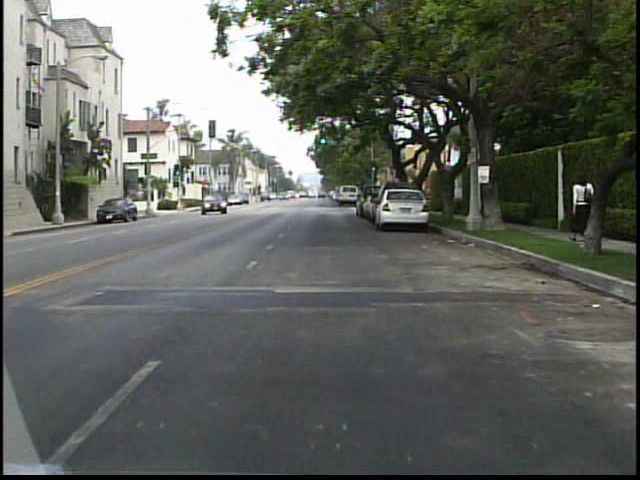person: (562, 165, 592, 242)
